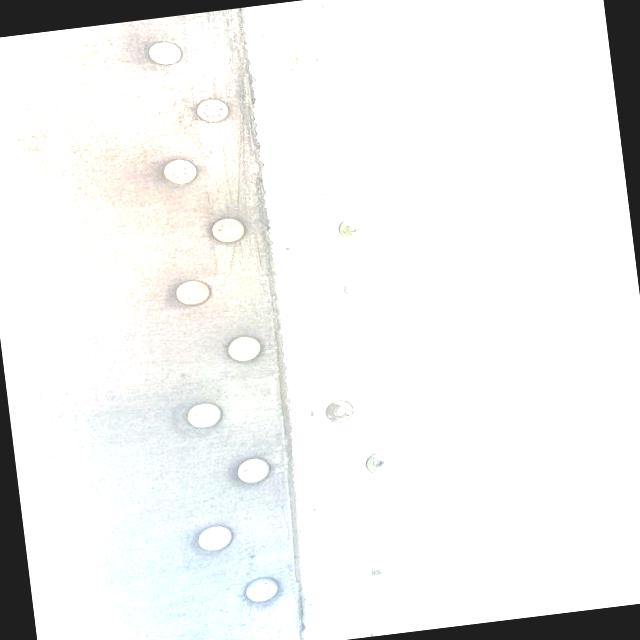crack: (422, 296, 496, 411), (458, 136, 504, 186)
